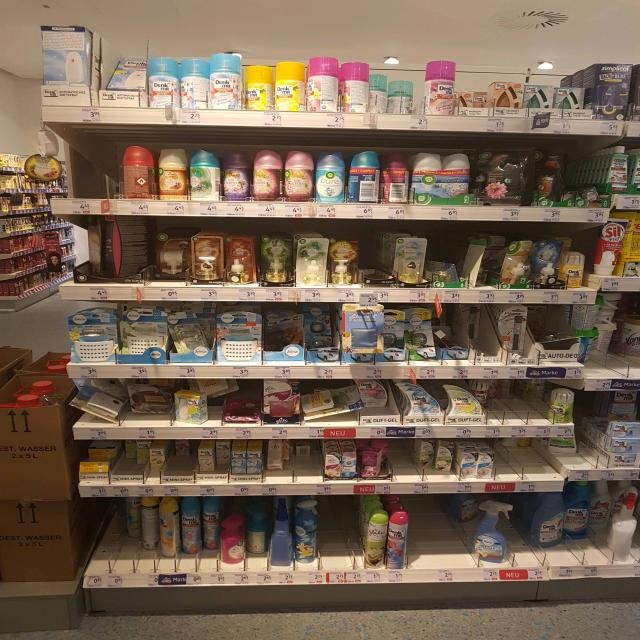unorganised: (85, 214, 151, 281), (605, 489, 639, 564), (370, 74, 415, 116), (424, 61, 458, 115), (302, 389, 364, 418), (349, 149, 382, 203), (536, 493, 567, 550), (306, 58, 338, 112), (122, 146, 153, 199), (269, 501, 293, 569), (126, 385, 170, 422), (338, 58, 367, 114), (166, 314, 207, 353), (382, 149, 411, 204), (552, 389, 578, 449), (123, 441, 166, 477), (74, 387, 122, 418), (180, 59, 209, 109), (243, 64, 272, 112), (263, 316, 304, 348), (421, 443, 456, 478), (159, 500, 179, 561), (566, 485, 589, 538), (306, 308, 335, 349), (175, 389, 206, 424), (140, 497, 159, 550), (248, 513, 270, 555), (540, 328, 576, 348), (124, 497, 139, 543), (362, 384, 389, 407), (266, 443, 285, 474), (472, 379, 493, 403), (457, 91, 487, 107), (216, 443, 230, 470), (174, 441, 189, 461), (293, 444, 312, 458)
